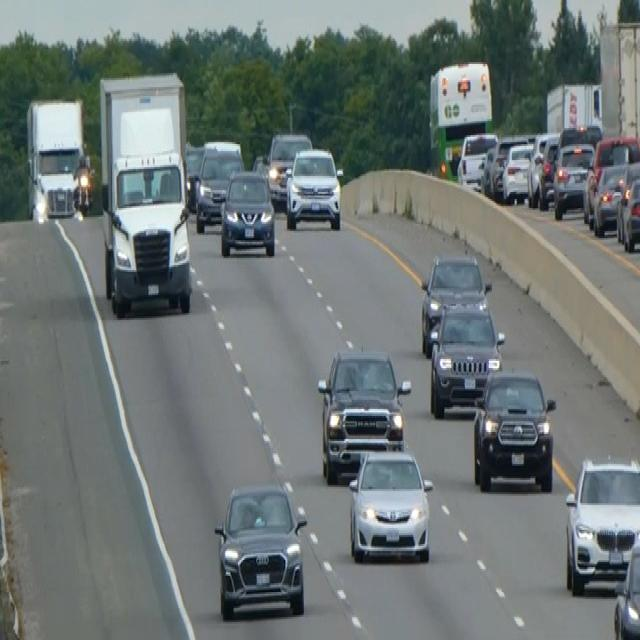bus: (427, 59, 494, 180)
car: (213, 478, 308, 620), (316, 343, 411, 482), (471, 364, 556, 492), (563, 454, 639, 596), (347, 444, 433, 564), (428, 297, 505, 418), (419, 250, 491, 354), (582, 134, 639, 228), (219, 167, 276, 258), (285, 144, 343, 229), (194, 140, 244, 233), (263, 130, 312, 208), (552, 138, 594, 218), (612, 534, 639, 638), (592, 162, 626, 236), (490, 134, 527, 198), (456, 130, 497, 187), (501, 140, 535, 204), (616, 172, 639, 250), (537, 137, 560, 206), (184, 142, 205, 210), (479, 142, 498, 196)
lorry: (97, 70, 193, 316), (24, 92, 89, 224)
motorcycle: (72, 155, 94, 215)
